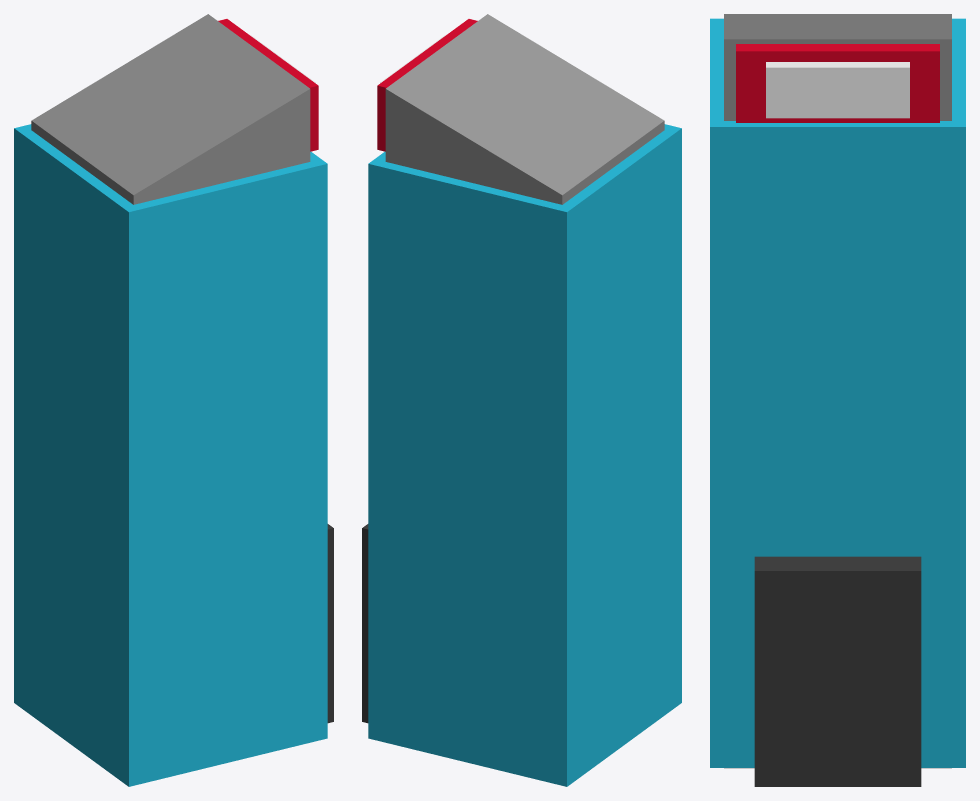
File: Building3.fbx
3 renders of one model, left to right at view 1: azimuth 30°, elevation 25°; view 2: azimuth 150°, elevation 25°; view 3: azimuth 270°, elevation 25°, orthographic. The views are drawn at different scales.
Parts seen in each view (by area): view 1: Cube.001, Cube, Cube.003, Cube.002; view 2: Cube.001, Cube, Cube.003, Cube.002; view 3: Cube.001, Cube.002, Cube, Cube.004, Cube.003.
Part boxes in pixels (box(x1,y1,x2,y2)): Cube.001: box(14, 124, 327, 786); Cube: box(31, 14, 310, 204); Cube.003: box(218, 19, 318, 151); Cube.002: box(327, 524, 333, 723); Cube.001: box(368, 124, 681, 786); Cube: box(385, 14, 664, 204); Cube.003: box(377, 19, 477, 151); Cube.002: box(362, 524, 368, 723); Cube.001: box(710, 18, 965, 767); Cube.002: box(754, 556, 921, 786); Cube: box(724, 14, 951, 768); Cube.004: box(766, 62, 909, 118); Cube.003: box(736, 44, 939, 122).
Bounding box in the file's own units: 254 × 706 × 225.
